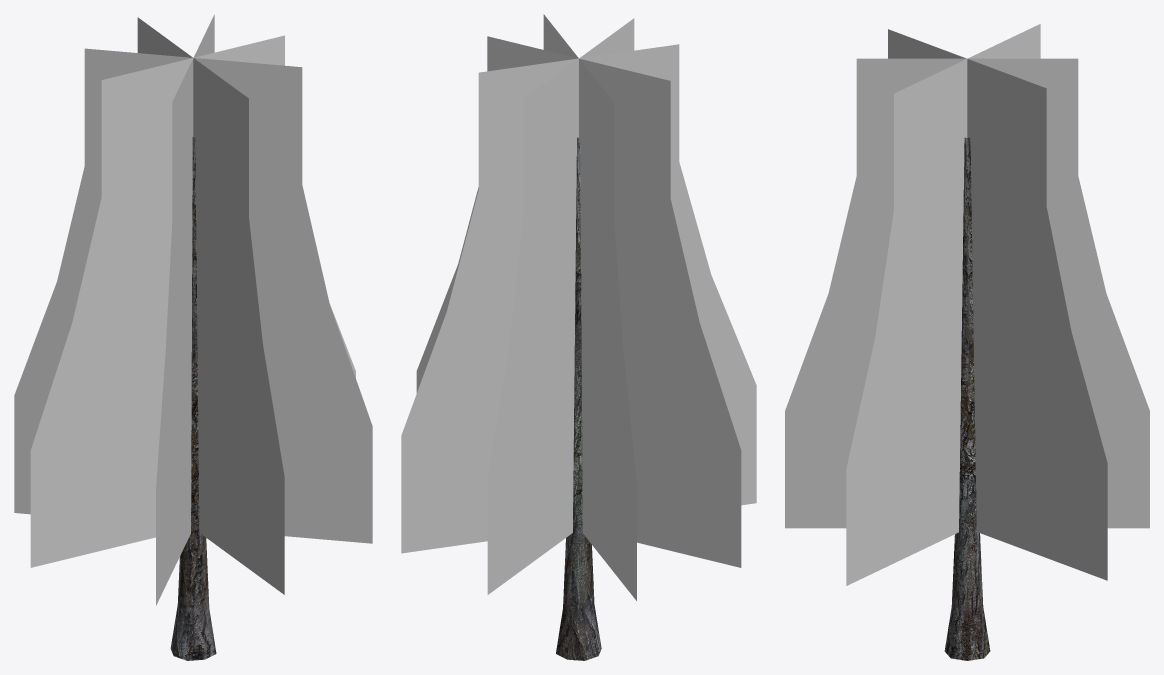
The model's file is tree-1.fbx.
3 renders of one model, left to right at view 1: azimuth 30°, elevation 25°; view 2: azimuth 150°, elevation 25°; view 3: azimuth 270°, elevation 25°, orthographic.
Parts seen in each view (by area): view 1: Plane.059; view 2: Plane.059; view 3: Plane.059.
Boxes of the visible parts, left/top/right/bottom form: Plane.059: left=14, top=14, right=372, bottom=660; Plane.059: left=401, top=14, right=756, bottom=660; Plane.059: left=785, top=24, right=1149, bottom=660.
Size of the model in its own units: 988 by 1723 by 962.
Materials: 3 (1 with a texture image).
